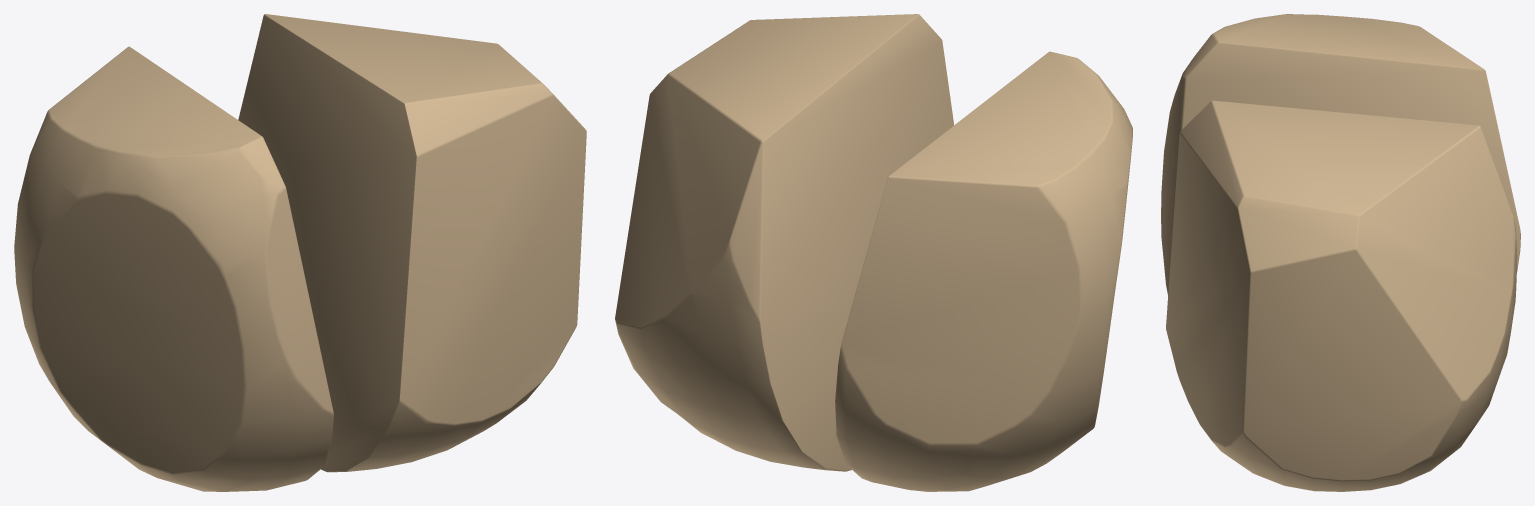
The model's file is rock_split_01.glb.
3 renders of one model, left to right at view 1: azimuth 30°, elevation 25°; view 2: azimuth 150°, elevation 25°; view 3: azimuth 270°, elevation 25°, orthographic. The views are drawn at different scales.
Parts seen in each view (by area): view 1: rock_split_01; view 2: rock_split_01; view 3: rock_split_01.
Boxes of the visible parts, x1,y1,x2,y2 form: rock_split_01: (14,14,586,491); rock_split_01: (615,14,1132,491); rock_split_01: (1161,14,1520,491).
Bounding box in the file's own units: 2.5 × 1.95 × 1.78.
